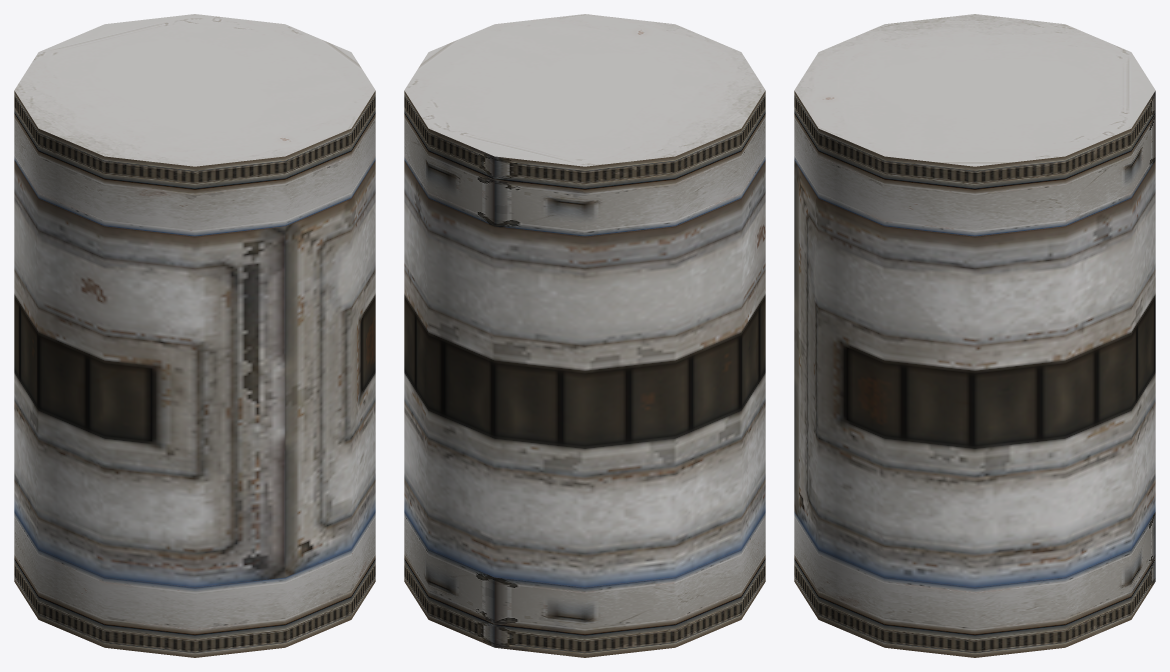
File: scifi_barrel_1.FBX
3 renders of one model, left to right at view 1: azimuth 30°, elevation 25°; view 2: azimuth 150°, elevation 25°; view 3: azimuth 270°, elevation 25°, orthographic.
Visible parts, largest first — view 1: Cylinder001; view 2: Cylinder001; view 3: Cylinder001.
Part boxes in pixels (bbox=[...]): Cylinder001: bbox=[14, 14, 375, 657]; Cylinder001: bbox=[404, 14, 765, 657]; Cylinder001: bbox=[794, 14, 1155, 657].
Bounding box in the file's own units: 102 × 152 × 102.
